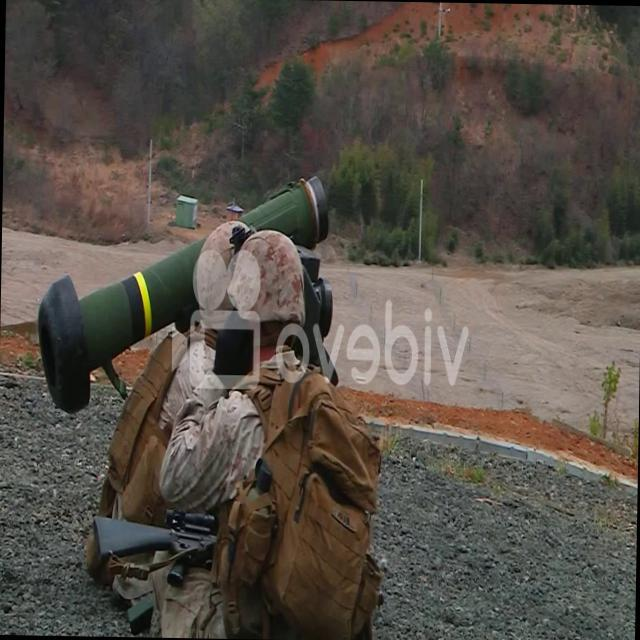rocket: (36, 169, 322, 416)
